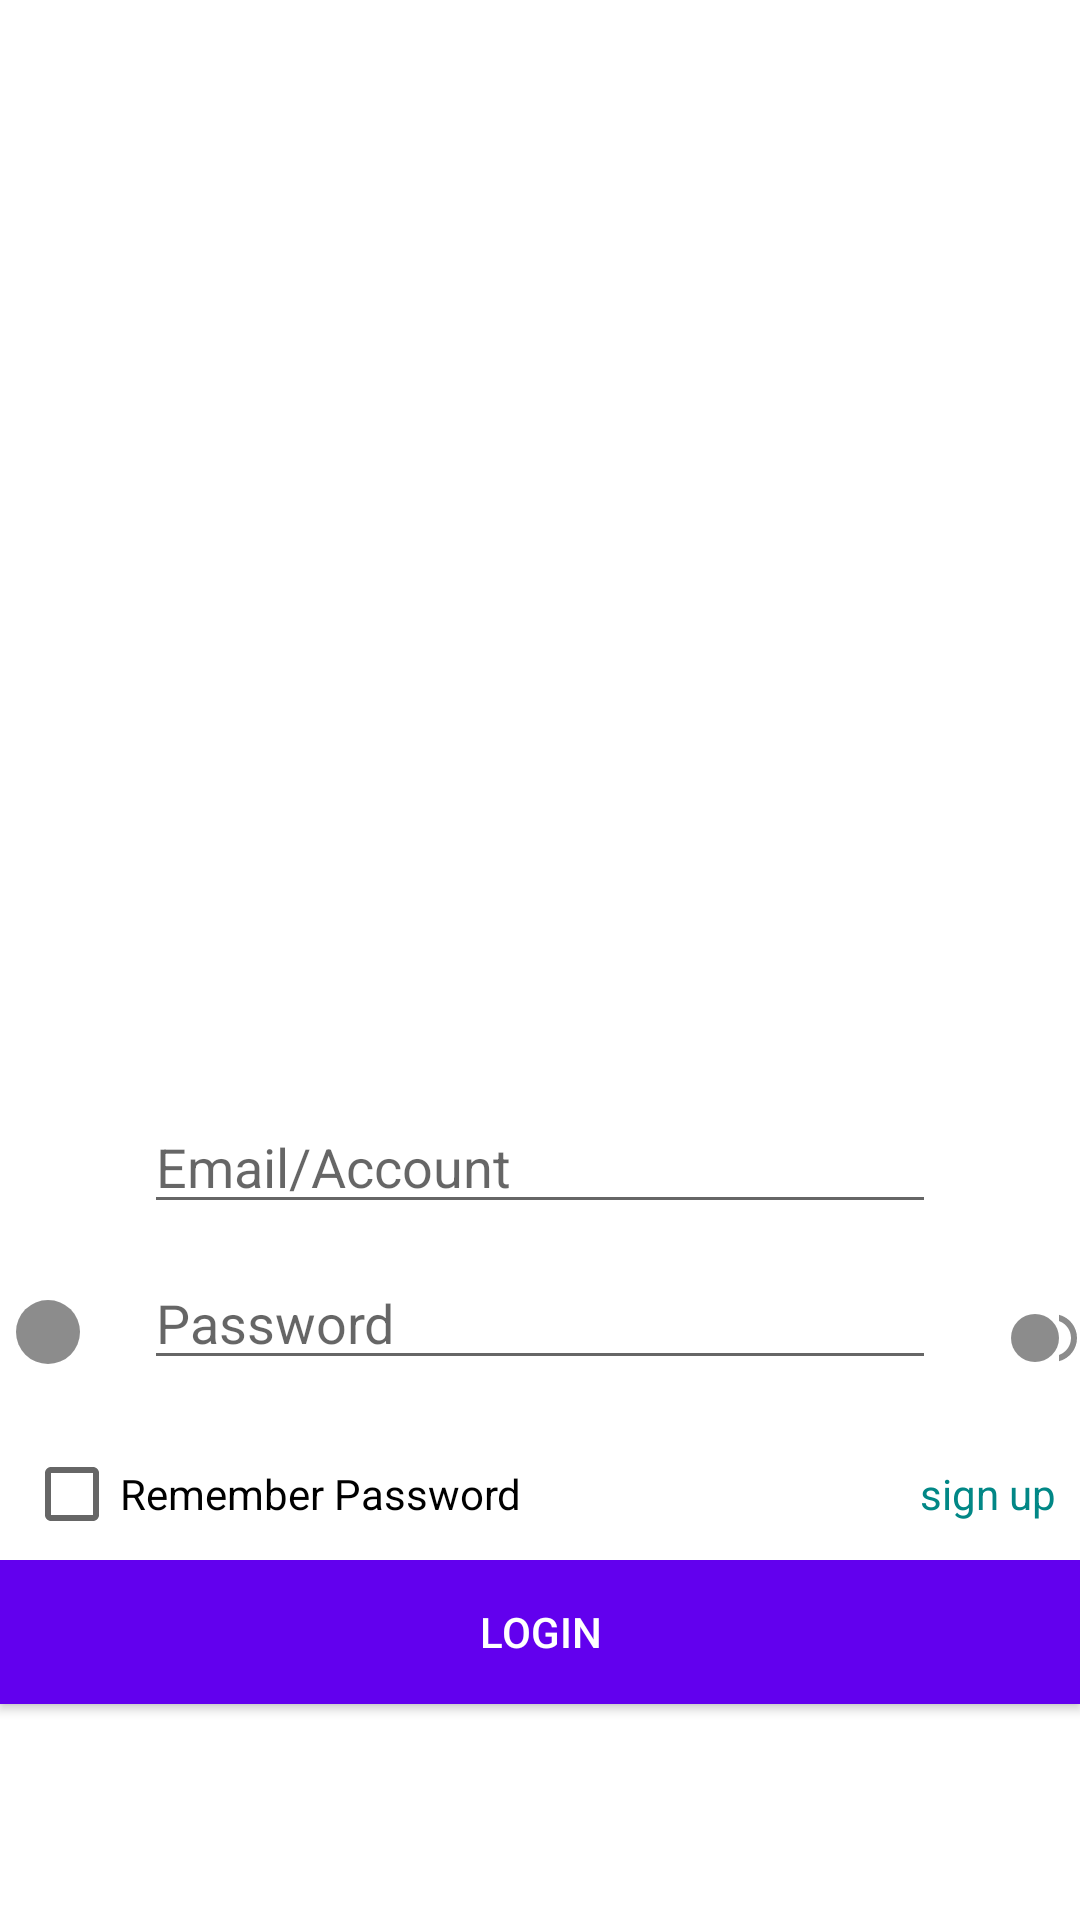

Where to tap for icons on this 1080x1920 app screen, as (x,y):
fiber manual record: (48,1332)
fiber smart record: (1044,1338)
